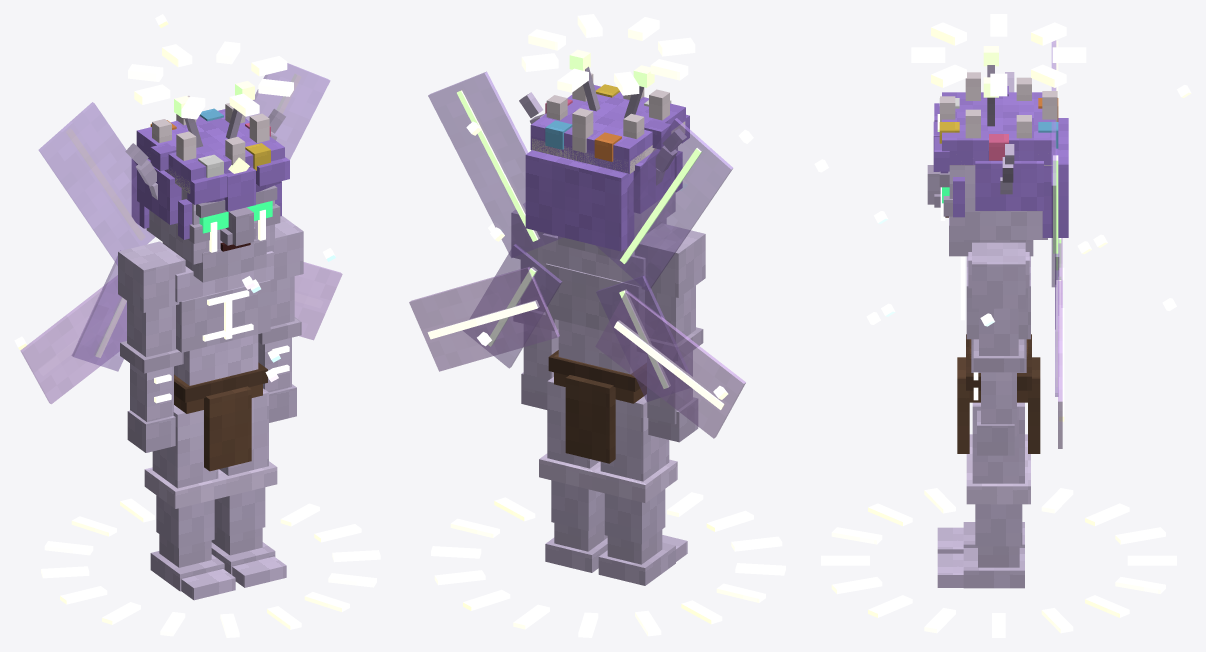
Rendered from fairy_base_v3_evo3.glb.
The picture shows the model from 3 angles, left to right: view 1: azimuth 30°, elevation 25°; view 2: azimuth 150°, elevation 25°; view 3: azimuth 270°, elevation 25°; orthographic projection. The views are drawn at different scales.
Visible parts, largest first — view 1: Torso, Head, ArmR, LegR, LegL, Root, ArmL; view 2: Torso, Head, LegR, ArmR, LegL, Root, ArmL; view 3: Head, ArmL, Torso, LegL, Root, LegR.
Part boxes in pixels (left/top/right/bottom): Torso: left=14, top=14, right=342, bottom=471; Head: left=125, top=41, right=293, bottom=282; ArmR: left=118, top=241, right=185, bottom=452; LegR: left=144, top=405, right=235, bottom=600; LegL: left=211, top=388, right=286, bottom=587; Root: left=41, top=498, right=380, bottom=637; ArmL: left=258, top=216, right=303, bottom=422; Torso: left=409, top=71, right=753, bottom=463; Head: left=519, top=14, right=695, bottom=259; LegR: left=592, top=394, right=687, bottom=585; ArmR: left=634, top=223, right=705, bottom=442; LegL: left=539, top=377, right=607, bottom=572; Root: left=431, top=492, right=785, bottom=637; ArmL: left=511, top=202, right=558, bottom=409; Head: left=911, top=14, right=1086, bottom=256; ArmL: left=972, top=242, right=1025, bottom=455; Torso: left=814, top=40, right=1191, bottom=453; LegL: left=937, top=402, right=1030, bottom=588; Root: left=821, top=488, right=1176, bottom=637; LegR: left=937, top=434, right=1030, bottom=553.
Bounding box in the file's own units: 0.7806 × 1.14 × 0.7622.
Materials: 33 (33 with a texture image).
